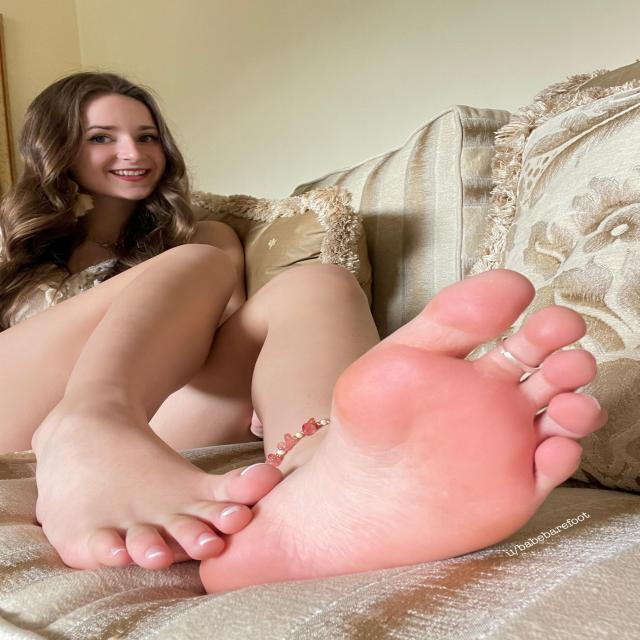Barefoots: (190, 262, 621, 602), (10, 401, 298, 578)
